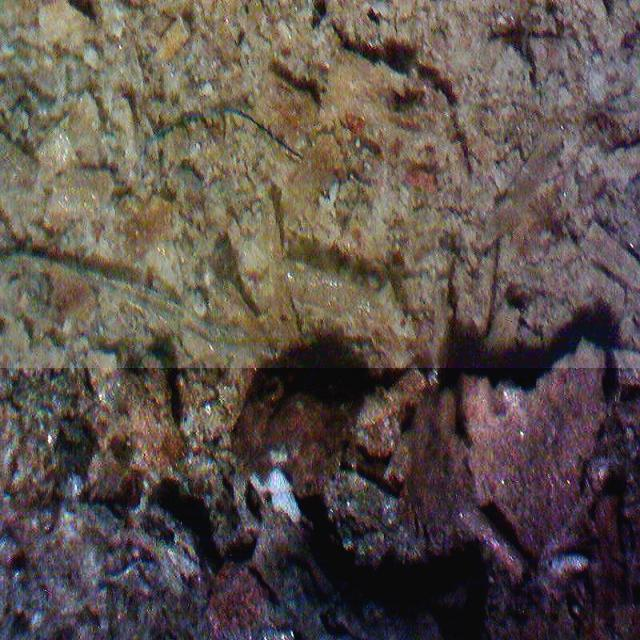microplastic: (142, 107, 302, 159)
